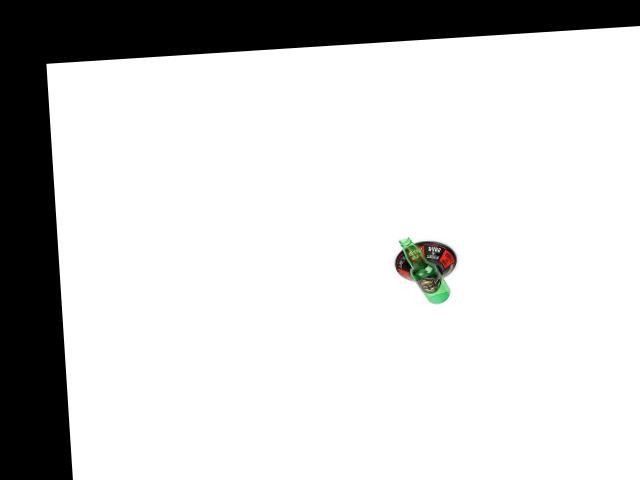beer: (399, 234, 452, 305)
